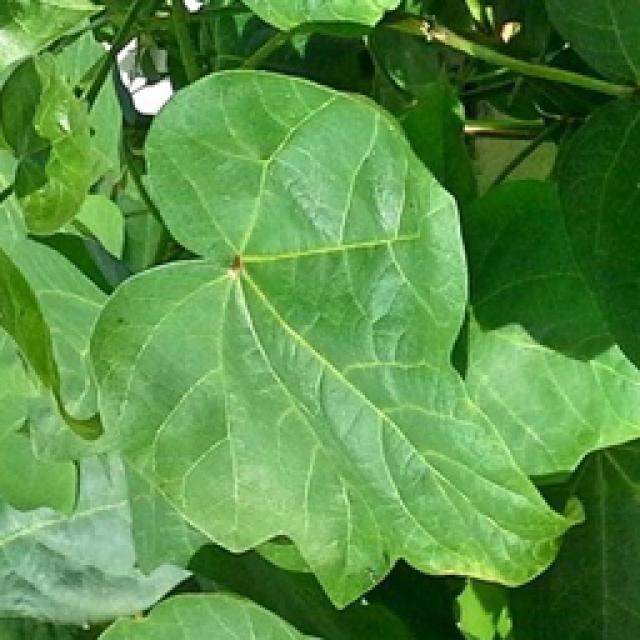Healthy Leaf: (40, 25, 635, 640)
